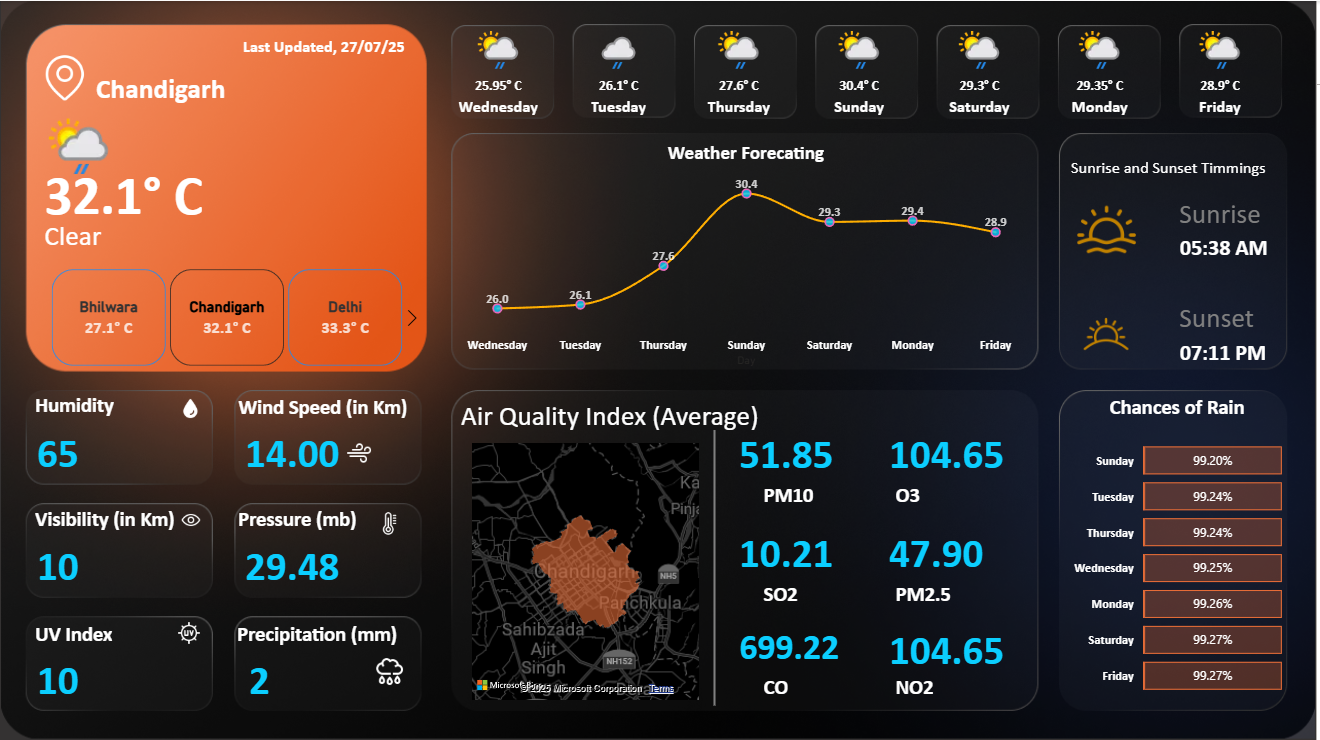

The page's visual inventory and layout, read from the dashboard file:
{"tool":"powerbi","page":{"name":"Page 1","canvas":[1280,720],"ordinal":0},"visuals":[{"type":"advancedSlicerVisual","fields":{"Values":["Location.location.name"]},"box":[25.3,255.8,391,104.1],"z":0},{"type":"shape","box":[37.9,150.8,199.4,74.9],"z":1000},{"type":"shape","box":[40.9,210.1,358.9,30.2],"z":2000},{"type":"shape","box":[90.5,64.2,146.9,39.9],"z":3000},{"type":"shape","box":[233.4,16.5,182.9,39.9],"z":4000},{"type":"image","box":[36,45.7,54.5,58.4],"z":5000},{"type":"cardVisual","fields":{"Data":["Current data.current.condition.icon"]},"box":[25.3,84.6,117.7,113.8],"z":6000},{"type":"shape","box":[31.1,377.4,130.3,39.9],"z":7000},{"type":"shape","box":[229.5,380.3,174.1,30.2],"z":8000},{"type":"shape","box":[31.1,488.3,170.2,39.9],"z":9000},{"type":"shape","box":[228.6,488.3,134.2,39.9],"z":10000},{"type":"shape","box":[31.1,600.1,122.6,39.9],"z":11000},{"type":"shape","box":[227.6,600.1,168.3,39.9],"z":12000},{"type":"image","box":[170.2,380.3,30.2,32.1],"z":13000},{"type":"image","box":[170.2,488.3,31.1,32.1],"z":14000},{"type":"image","box":[167.3,598.2,33.1,33.1],"z":15000},{"type":"image","box":[328.8,422.1,40.9,35],"z":16000},{"type":"image","box":[355,631.2,48.6,41.8],"z":17000},{"type":"image","box":[357.9,492.2,41.8,32.1],"z":18000},{"type":"multiRowCard","fields":{"Values":["Current data.current.humidity"]},"box":[31.1,410.5,107,58.4],"z":19000},{"type":"multiRowCard","fields":{"Values":["Current data.current.pressure_in"]},"box":[233.4,520.4,110.9,58.4],"z":20000},{"type":"multiRowCard","fields":{"Values":["Current data.current.wind_kph"]},"box":[233.4,410.5,110.9,58.4],"z":21000},{"type":"multiRowCard","fields":{"Values":["Current data.current.vis_km"]},"box":[31.1,520.4,107,58.4],"z":22000},{"type":"multiRowCard","fields":{"Values":["Current data.current.uv"]},"box":[31.1,631.2,107,58.4],"z":23000},{"type":"multiRowCard","fields":{"Values":["Current data.current.precip_mm"]},"box":[237.3,631.2,128.4,58.4],"z":24000},{"type":"advancedSlicerVisual","fields":{"Values":["Forecast data day.Day"]},"box":[423.1,16.5,828.7,106],"z":25000},{"type":"lineChart","title":"Weather Forecating","fields":{"Y":["Forecast data day.forecast.forecastday.day.avgtemp_c"],"Category":["Forecast data day.Day"]},"box":[445.5,135.2,560.2,224.7],"z":26000},{"type":"shape","box":[1037.8,135.2,214,52.5],"z":27000},{"type":"shape","box":[1144.8,217.9,107,37.9],"z":28000},{"type":"shape","box":[1144.8,320,107,37.9],"z":29000},{"type":"shape","box":[1144.8,188.7,107,30.2],"z":30000},{"type":"shape","box":[1144.8,289.8,107,30.2],"z":31000},{"type":"image","box":[1037.8,188.7,76.8,67.1],"z":32000},{"type":"image","box":[1037.8,289.8,76.8,68.1],"z":33000},{"type":"hundredPercentStackedBarChart","title":"Chances of Rain","fields":{"Category":["Forecast data day.Day"],"Y":["Forecast data day.forecast.forecastday.day.daily_chance_of_rain","_Measures.Left_Value_Rain"]},"box":[1037.8,382.2,214,307.4],"z":34000},{"type":"shape","box":[445.5,381.3,349.2,40.9],"z":35000},{"type":"shape","box":[868.6,465.9,64.2,33.1],"z":36000},{"type":"multiRowCard","fields":{"Values":["Forecast data day.forecast.forecastday.day.air_quality.o3"]},"box":[859.8,411.4,145.9,58.4],"z":37000},{"type":"shape","box":[868.6,562.2,89.5,33.1],"z":38000},{"type":"shape","box":[868.6,652.6,64.2,33.1],"z":39000},{"type":"multiRowCard","fields":{"Values":["Forecast data day.forecast.forecastday.day.air_quality.pm2_5"]},"box":[859.8,507.7,145.9,58.4],"z":40000},{"type":"multiRowCard","fields":{"Values":["Forecast data day.forecast.forecastday.day.air_quality.o3"]},"box":[859.8,602.1,145.9,58.4],"z":41000},{"type":"multiRowCard","fields":{"Values":["Forecast data day.forecast.forecastday.day.air_quality.pm10"]},"box":[713.9,411.4,145.9,58.4],"z":42000},{"type":"shape","box":[740.2,465.9,64.2,33.1],"z":43000},{"type":"multiRowCard","fields":{"Values":["Forecast data day.forecast.forecastday.day.air_quality.so2"]},"box":[713.9,507.7,145.9,58.4],"z":44000},{"type":"multiRowCard","fields":{"Values":["Forecast data day.forecast.forecastday.day.air_quality.co"]},"box":[713.9,602.1,145.9,58.4],"z":45000},{"type":"shape","box":[740.2,562.2,64.2,33.1],"z":46000},{"type":"shape","box":[740.2,652.6,64.2,33.1],"z":47000},{"type":"shape","box":[676,417.3,37.9,268.4],"z":48000},{"type":"filledMap","fields":{"Category":["Location.location.name"]},"box":[454,425,231,260],"z":48001}]}

Visuals, with their boxes in screenshot pixels (x1, y1, x2, y2), scaled from the page's 1280x720 canvas onto the 1320x740 screenshot:
advancedSlicerVisual - Location.location.name: (26,263,429,370)
shape: (39,155,245,232)
shape: (42,216,412,247)
shape: (93,66,245,107)
shape: (241,17,429,58)
image: (37,47,93,107)
cardVisual - Current data.current.condition.icon: (26,87,147,204)
shape: (32,388,166,429)
shape: (237,391,416,422)
shape: (32,502,208,543)
shape: (236,502,374,543)
shape: (32,617,159,658)
shape: (235,617,408,658)
image: (176,391,207,424)
image: (176,502,208,535)
image: (173,615,207,649)
image: (339,434,381,470)
image: (366,649,416,692)
image: (369,506,412,539)
multiRowCard - Current data.current.humidity: (32,422,142,482)
multiRowCard - Current data.current.pressure_in: (241,535,355,595)
multiRowCard - Current data.current.wind_kph: (241,422,355,482)
multiRowCard - Current data.current.vis_km: (32,535,142,595)
multiRowCard - Current data.current.uv: (32,649,142,709)
multiRowCard - Current data.current.precip_mm: (245,649,377,709)
advancedSlicerVisual - Forecast data day.Day: (436,17,1291,126)
"Weather Forecating" lineChart: (459,139,1037,370)
shape: (1070,139,1291,193)
shape: (1181,224,1291,263)
shape: (1181,329,1291,368)
shape: (1181,194,1291,225)
shape: (1181,298,1291,329)
image: (1070,194,1149,263)
image: (1070,298,1149,368)
"Chances of Rain" hundredPercentStackedBarChart: (1070,393,1291,709)
shape: (459,392,820,434)
shape: (896,479,962,513)
multiRowCard - Forecast data day.forecast.forecastday.day.air_quality.o3: (887,423,1037,483)
shape: (896,578,988,612)
shape: (896,671,962,705)
multiRowCard - Forecast data day.forecast.forecastday.day.air_quality.pm2_5: (887,522,1037,582)
multiRowCard - Forecast data day.forecast.forecastday.day.air_quality.o3: (887,619,1037,679)
multiRowCard - Forecast data day.forecast.forecastday.day.air_quality.pm10: (736,423,887,483)
shape: (763,479,830,513)
multiRowCard - Forecast data day.forecast.forecastday.day.air_quality.so2: (736,522,887,582)
multiRowCard - Forecast data day.forecast.forecastday.day.air_quality.co: (736,619,887,679)
shape: (763,578,830,612)
shape: (763,671,830,705)
shape: (697,429,736,705)
filledMap - Location.location.name: (468,437,706,704)
